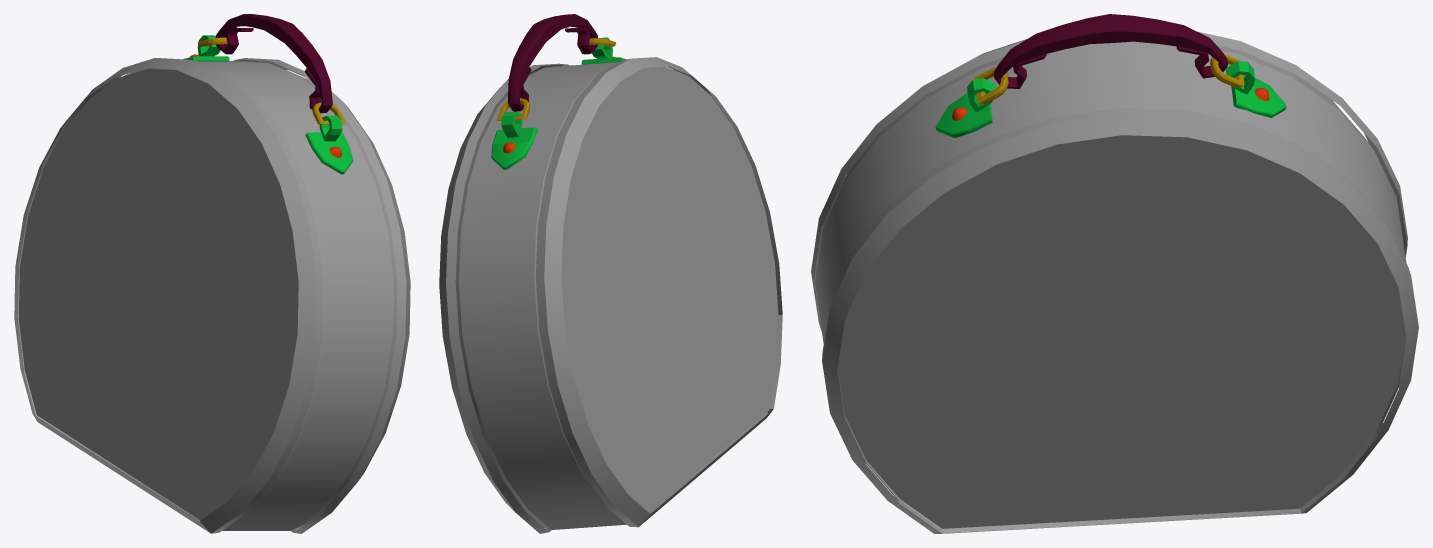
The model's file is Luggage 2.FBX.
3 views of the same model, side by side, from view 1: azimuth 30°, elevation 25°; view 2: azimuth 150°, elevation 25°; view 3: azimuth 270°, elevation 25° (orthographic). The views are drawn at different scales.
Visible parts, largest first — view 1: Luggage 2, Line006, Box278, Box277; view 2: Luggage 2, Line006, Box277, Box278; view 3: Luggage 2, Line006, Box278, Box277.
Part boxes in pixels (<box>): Luggage 2: <box>14,58,410,533</box>; Line006: <box>215,14,332,113</box>; Box278: <box>305,115,353,174</box>; Box277: <box>183,35,229,61</box>; Luggage 2: <box>439,57,782,533</box>; Line006: <box>508,14,597,111</box>; Box277: <box>491,111,537,169</box>; Box278: <box>581,37,626,64</box>; Luggage 2: <box>811,32,1418,533</box>; Line006: <box>993,14,1228,88</box>; Box278: <box>935,78,995,137</box>; Box277: <box>1225,61,1286,117</box>.
Size of the model in its own units: 5.19 by 9.9 by 9.95.
